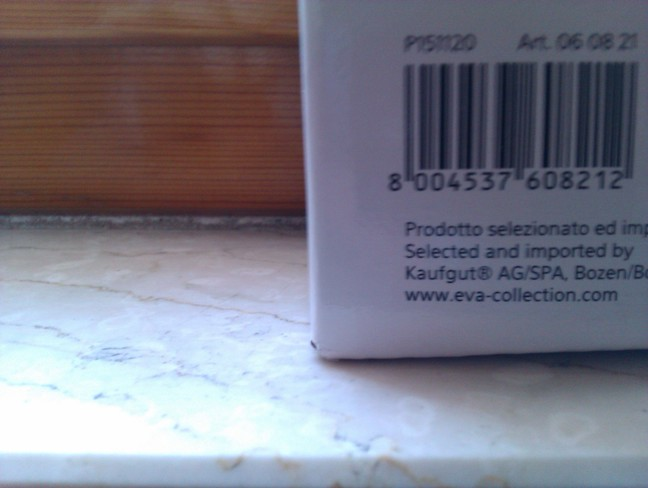barcode: (371, 54, 645, 202)
